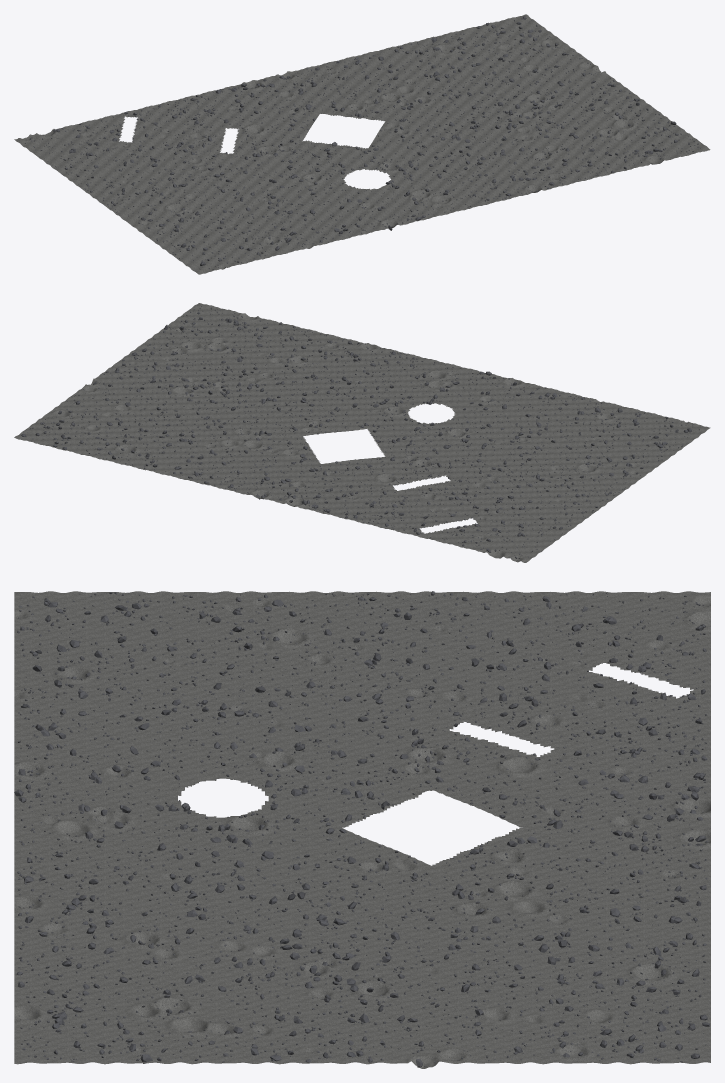
The model's file is terrain.glb.
3 views of the same model, one above another, from view 1: azimuth 30°, elevation 25°; view 2: azimuth 150°, elevation 25°; view 3: azimuth 270°, elevation 25° (orthographic). The views are drawn at different scales.
Visible parts, largest first — view 1: Regolith • editable solid geometry; view 2: Regolith • editable solid geometry; view 3: Regolith • editable solid geometry.
Part boxes in pixels (box(x1,y1,x2,y2)): Regolith • editable solid geometry: box(14, 14, 710, 274); Regolith • editable solid geometry: box(14, 303, 710, 562); Regolith • editable solid geometry: box(14, 591, 710, 1068).
Bounding box in the file's own units: 80 × 1.26 × 50.02.
2 materials, 2 textured.
